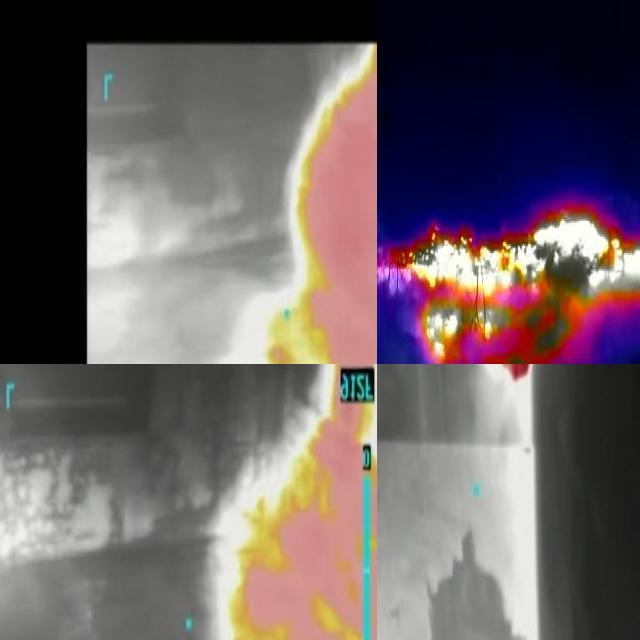fire: (378, 207, 640, 365), (234, 365, 378, 640), (266, 41, 378, 365)
